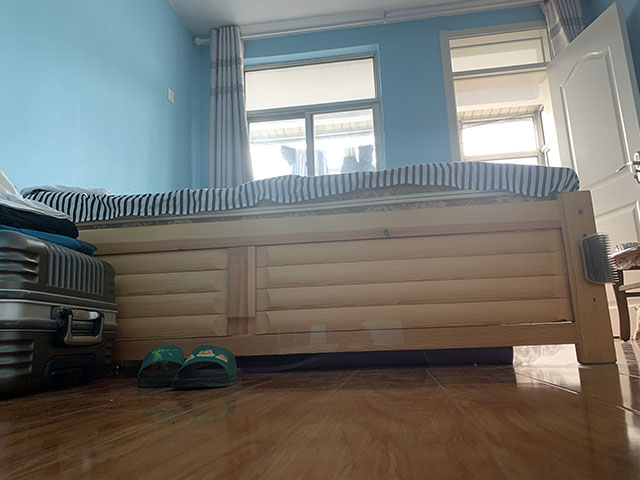bed: (19, 160, 620, 366)
slippers: (179, 344, 239, 391), (136, 349, 183, 388)
stool: (610, 246, 640, 345)
